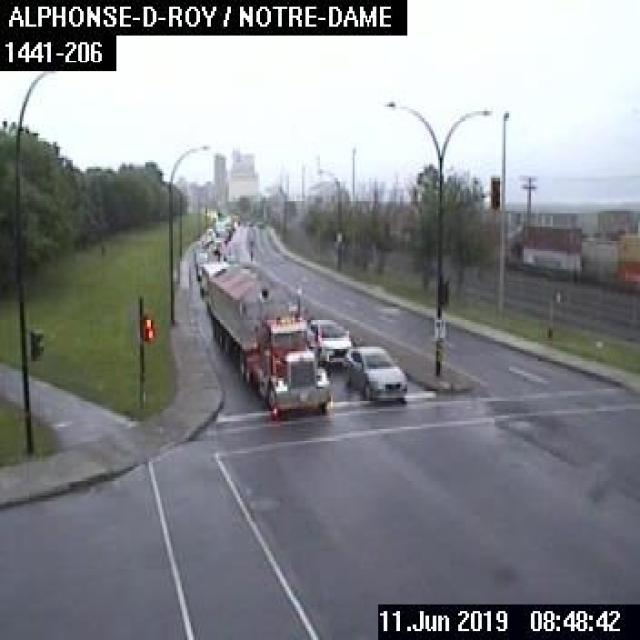vehicle: (191, 264, 330, 416), (342, 339, 410, 402), (306, 315, 352, 365)
